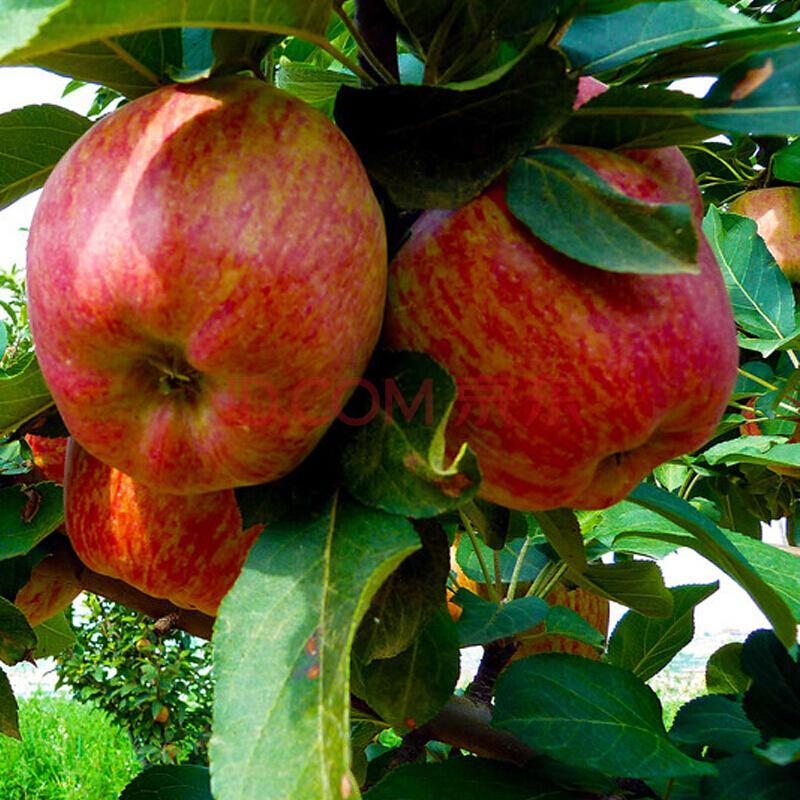apple: (14, 85, 390, 539), (389, 143, 741, 508)
